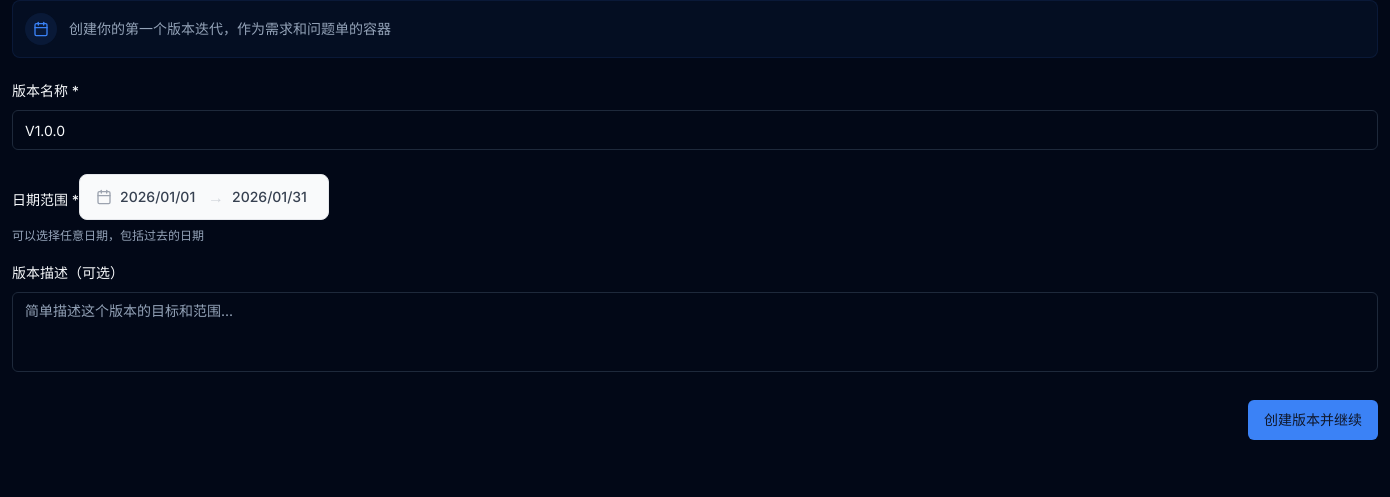
Test case: CreateVersionStep › 错误处理 › 其他错误应该显示错误消息
This screenshot has width=1390, height=497.
Step 1. Click the button "创建版本并继续" → click(1313, 420), box [1248,400,1378,440]
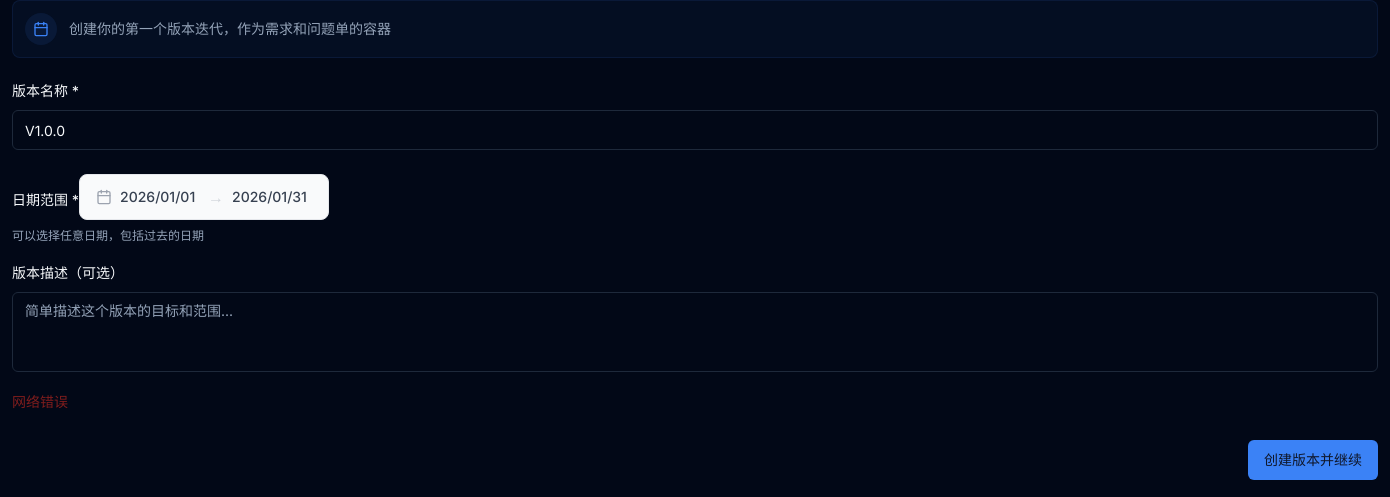
Result: the text "网络错误" is shown at [12,393,68,410]
